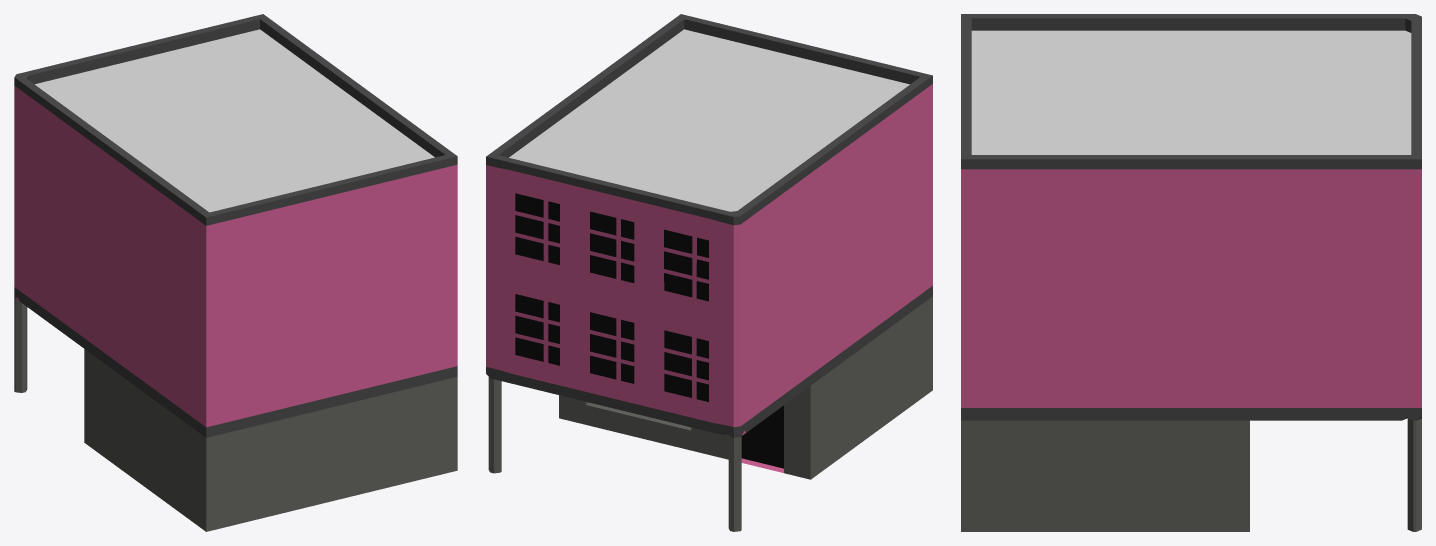
File: house-8.glb
3 renders of one model, left to right at view 1: azimuth 30°, elevation 25°; view 2: azimuth 150°, elevation 25°; view 3: azimuth 270°, elevation 25°, orthographic. The views are drawn at different scales.
Size of the model in its own units: 1.46 by 1.74 by 1.95.
